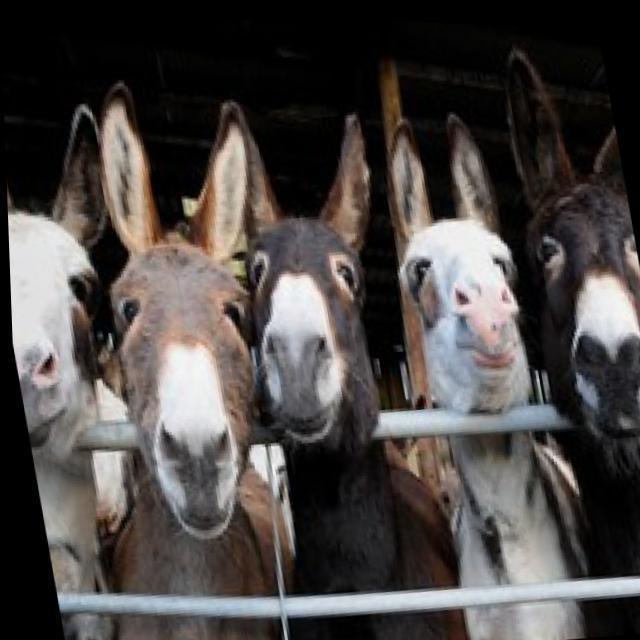Donkey: (19, 61, 344, 640), (178, 34, 474, 640), (342, 20, 584, 640), (439, 18, 640, 638), (2, 61, 190, 640)
